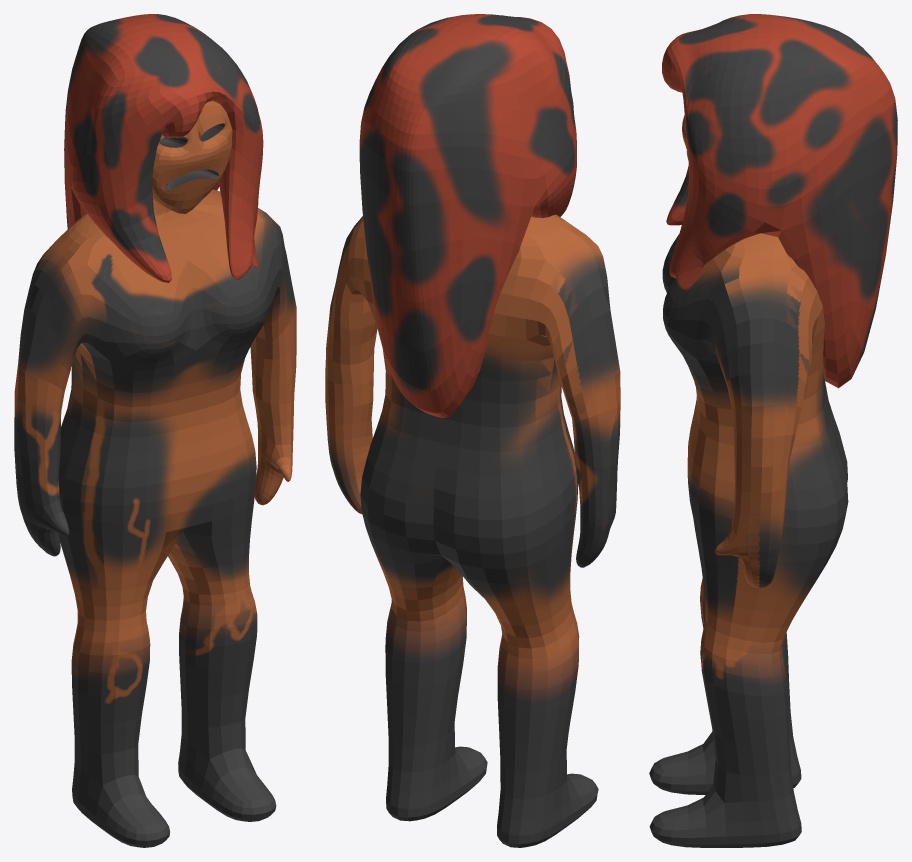
Rendered from pelagma.fbx.
3 renders of one model, left to right at view 1: azimuth 30°, elevation 25°; view 2: azimuth 150°, elevation 25°; view 3: azimuth 270°, elevation 25°, orthographic. The views are drawn at different scales.
Parts seen in each view (by area): view 1: Body, Hair, Head; view 2: Body, Hair; view 3: Body, Hair.
Part boxes in pixels (x1,y1,x2,y2): Body: (14, 189, 296, 847); Hair: (64, 14, 263, 282); Head: (152, 101, 232, 213); Body: (325, 214, 620, 847); Hair: (359, 14, 576, 417); Body: (649, 233, 848, 847); Hair: (662, 14, 897, 388).
Size of the model in its own units: 0.4874 by 1.29 by 0.369.
Materials: 1 (1 with a texture image).
